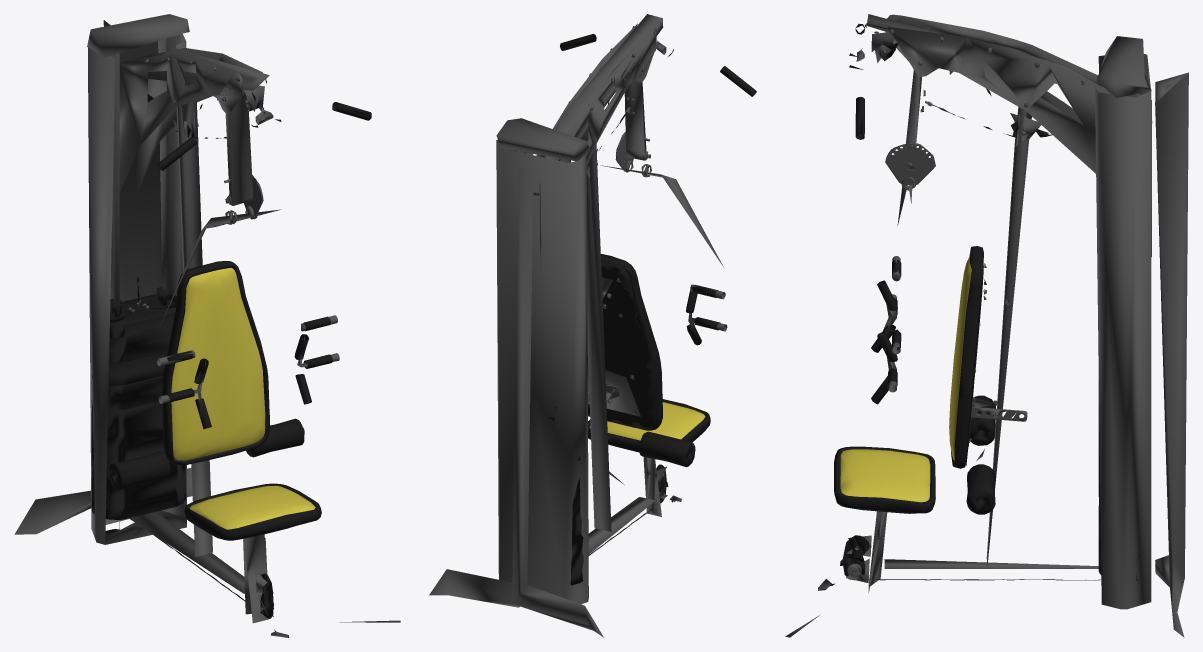
Rendered from sport_papillon.glb.
The picture shows the model from 3 angles, left to right: view 1: azimuth 30°, elevation 25°; view 2: azimuth 150°, elevation 25°; view 3: azimuth 270°, elevation 25°; orthographic projection. The views are drawn at different scales.
Parts seen in each view (by area): view 1: Object_4, Object_18, Object_7, Object_14, Object_10; view 2: Object_4, Object_7, Object_14, Object_10, Object_18; view 3: Object_4, Object_14, Object_18, Object_7, Object_10.
Part boxes in pixels (<box>): Object_4: <box>14,14,400,637</box>; Object_18: <box>171,268,315,529</box>; Object_7: <box>91,91,316,631</box>; Object_14: <box>108,102,371,540</box>; Object_10: <box>110,39,268,623</box>; Object_4: <box>429,14,727,637</box>; Object_7: <box>549,40,704,585</box>; Object_14: <box>560,33,756,467</box>; Object_10: <box>517,26,665,516</box>; Object_18: <box>589,402,705,440</box>; Object_4: <box>785,14,1188,637</box>; Object_14: <box>834,23,995,514</box>; Object_18: <box>840,256,971,502</box>; Object_7: <box>830,41,1139,585</box>; Object_10: <box>847,29,1128,592</box>.
Size of the model in its own units: 0.913 by 2.23 by 1.43.
